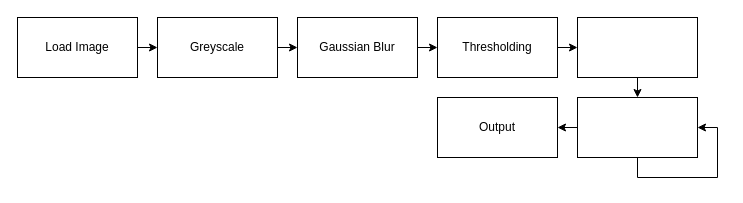
Image size: 743x203. Some labels were removed from this diagram. The shapes that lost their labels are listed below. From the top down, each one's box as (x1, y1, x2, y2) in pixels, then its label:
(576, 16, 698, 78): Bounding Box Rectangle
(576, 96, 698, 158): Erode & Dilate
